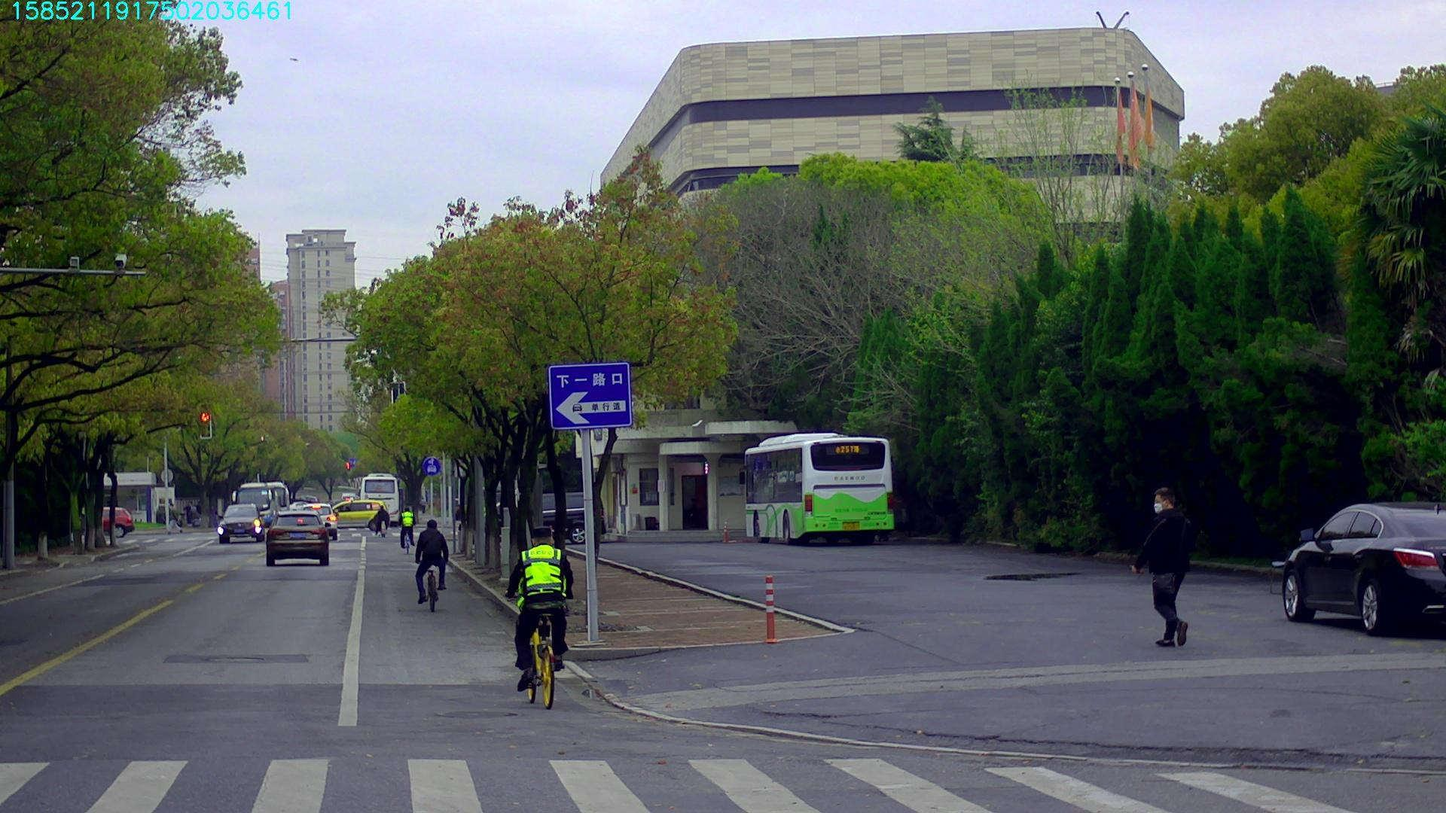red: (199, 410, 210, 437)
